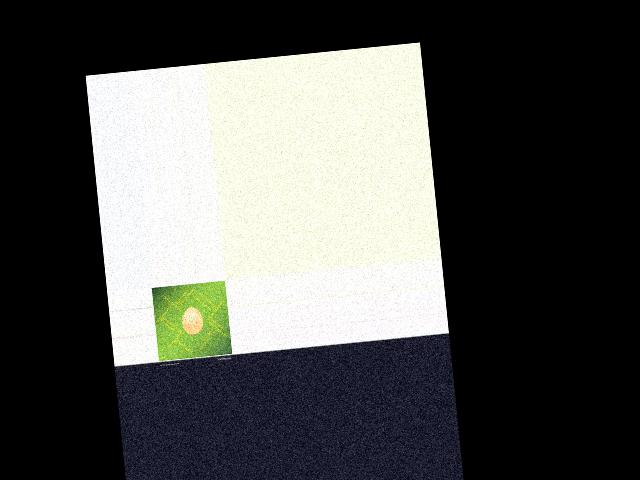egg: (180, 306, 203, 335)
